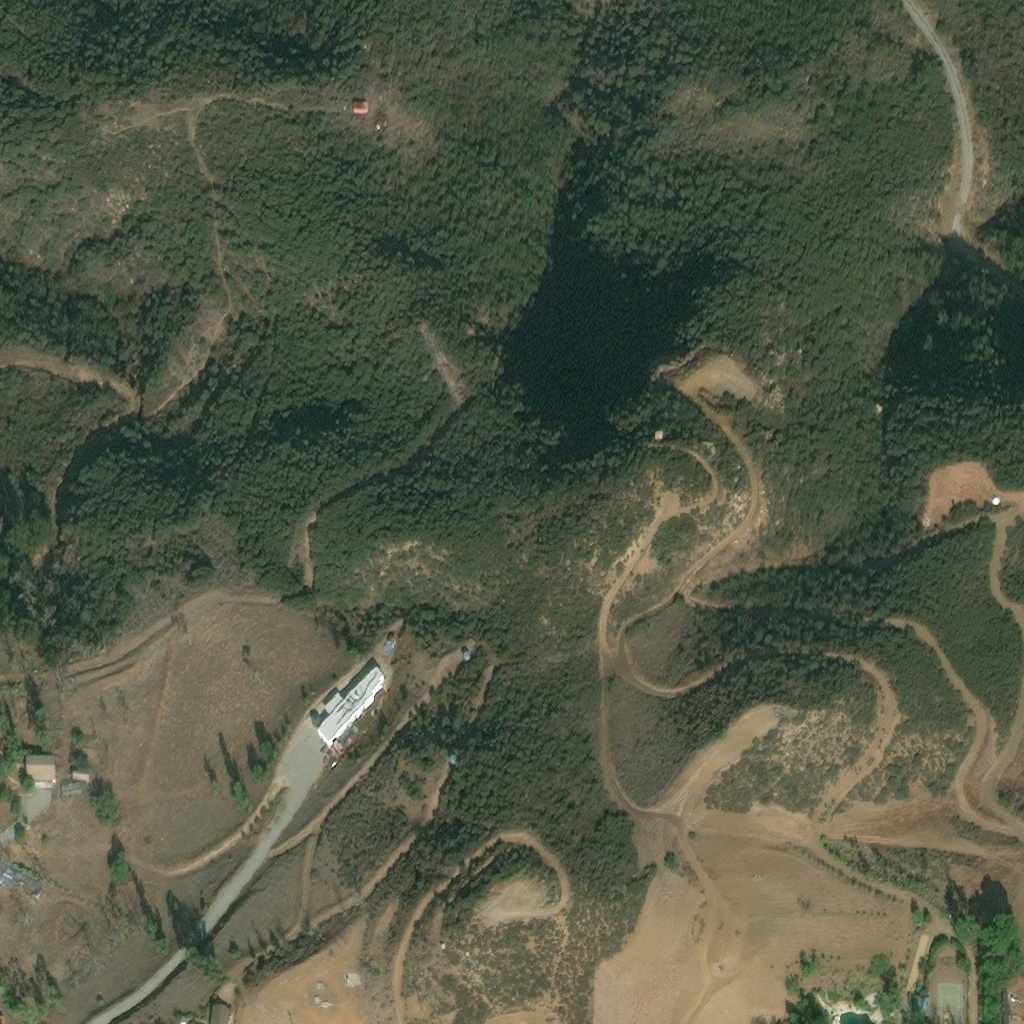0 no-damage: (316, 665, 385, 745), (25, 756, 56, 784), (208, 1007, 230, 1023), (916, 997, 932, 1018), (72, 770, 89, 782), (353, 99, 369, 110), (387, 631, 397, 642), (462, 648, 470, 660)
